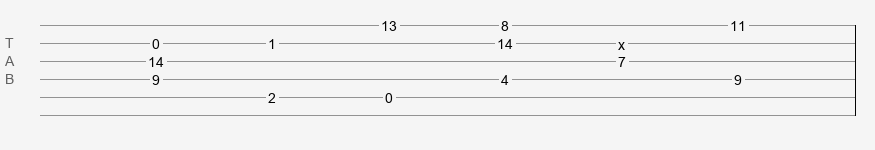0: (152, 36, 160, 46), (385, 90, 393, 100)
1: (268, 36, 276, 46)
11: (730, 18, 746, 28)
13: (381, 18, 397, 28)
14: (148, 54, 164, 64), (497, 36, 513, 46)
2: (268, 90, 276, 100)
4: (501, 72, 509, 82)
7: (618, 54, 626, 64)
8: (501, 18, 509, 28)
9: (152, 72, 160, 82), (734, 72, 742, 82)
x: (618, 37, 625, 45)
